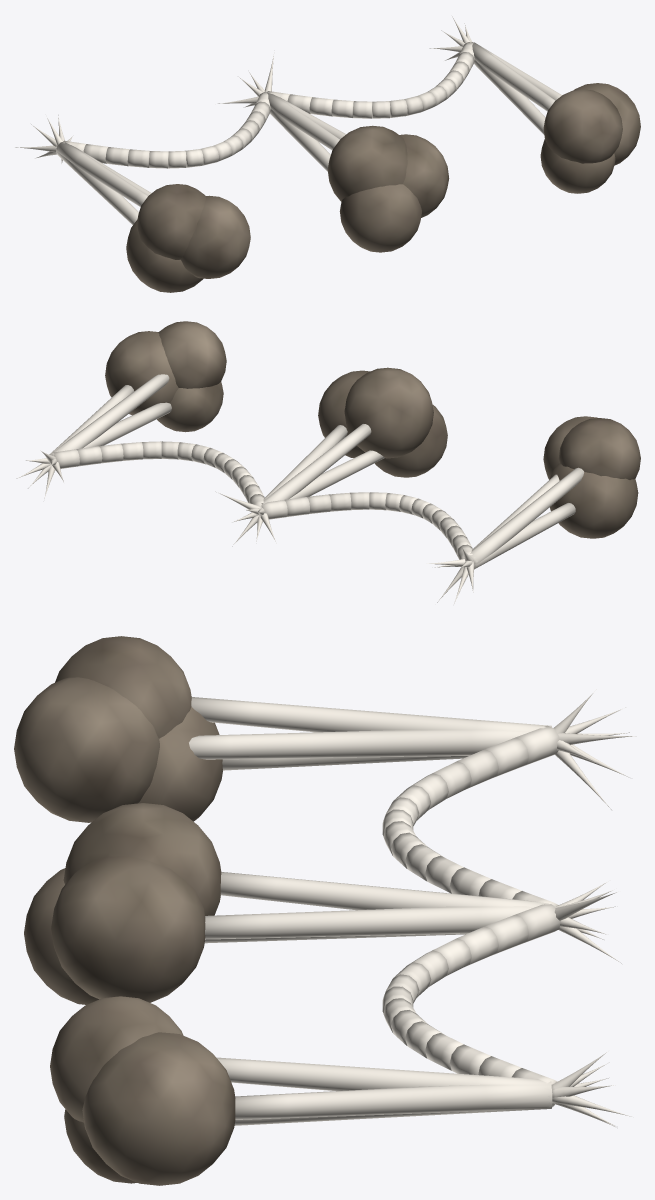
The model's file is rhizopus-oryzae.glb.
3 views of the same model, one above another, from view 1: azimuth 30°, elevation 25°; view 2: azimuth 150°, elevation 25°; view 3: azimuth 270°, elevation 25° (orthographic). The views are drawn at different scales.
Parts seen in each view (by area): view 1: sporangia, stolons_rhizoids; view 2: sporangia, stolons_rhizoids; view 3: sporangia, stolons_rhizoids.
Boxes of the visible parts, <box> form: sporangia: <box>126,83,640,292</box>; stolons_rhizoids: <box>15,16,561,224</box>; sporangia: <box>105,321,640,538</box>; stolons_rhizoids: <box>16,374,583,603</box>; sporangia: <box>14,636,235,1185</box>; stolons_rhizoids: <box>189,689,636,1126</box>.
Size of the model in its own units: 3.73 by 0.7782 by 2.24.
